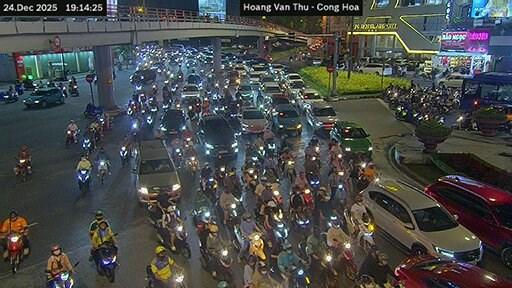motorbike: (298, 243, 339, 286), (344, 208, 374, 252), (199, 247, 233, 282), (233, 225, 264, 260), (96, 241, 117, 282), (7, 233, 24, 273), (320, 252, 339, 287), (339, 242, 355, 279), (173, 223, 189, 257), (272, 208, 288, 239), (173, 224, 188, 257), (291, 208, 310, 234), (47, 270, 73, 287), (240, 166, 258, 189), (290, 266, 310, 286), (249, 234, 264, 260), (223, 202, 239, 226), (154, 221, 169, 246), (13, 157, 29, 180), (204, 176, 217, 202), (77, 169, 89, 193), (146, 265, 159, 287), (301, 188, 313, 210), (83, 103, 102, 116), (96, 160, 106, 184), (214, 163, 227, 181), (284, 158, 294, 181), (64, 130, 77, 147), (172, 270, 185, 287), (186, 157, 198, 175), (118, 145, 128, 166), (308, 172, 319, 190), (172, 148, 182, 167), (131, 117, 140, 138), (82, 136, 92, 154), (3, 91, 18, 103), (127, 99, 137, 115), (265, 139, 275, 154), (22, 79, 37, 89), (144, 112, 153, 127), (214, 202, 223, 215), (69, 84, 79, 95), (182, 136, 192, 147), (13, 82, 22, 94), (256, 145, 265, 157), (320, 234, 325, 239), (73, 261, 79, 265), (184, 217, 185, 220), (208, 270, 211, 271), (310, 270, 313, 271)
